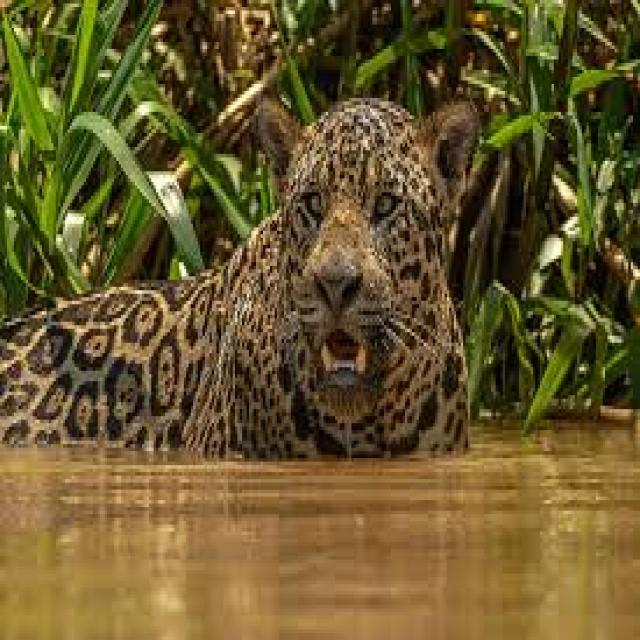Jaguar: (7, 91, 479, 476)
